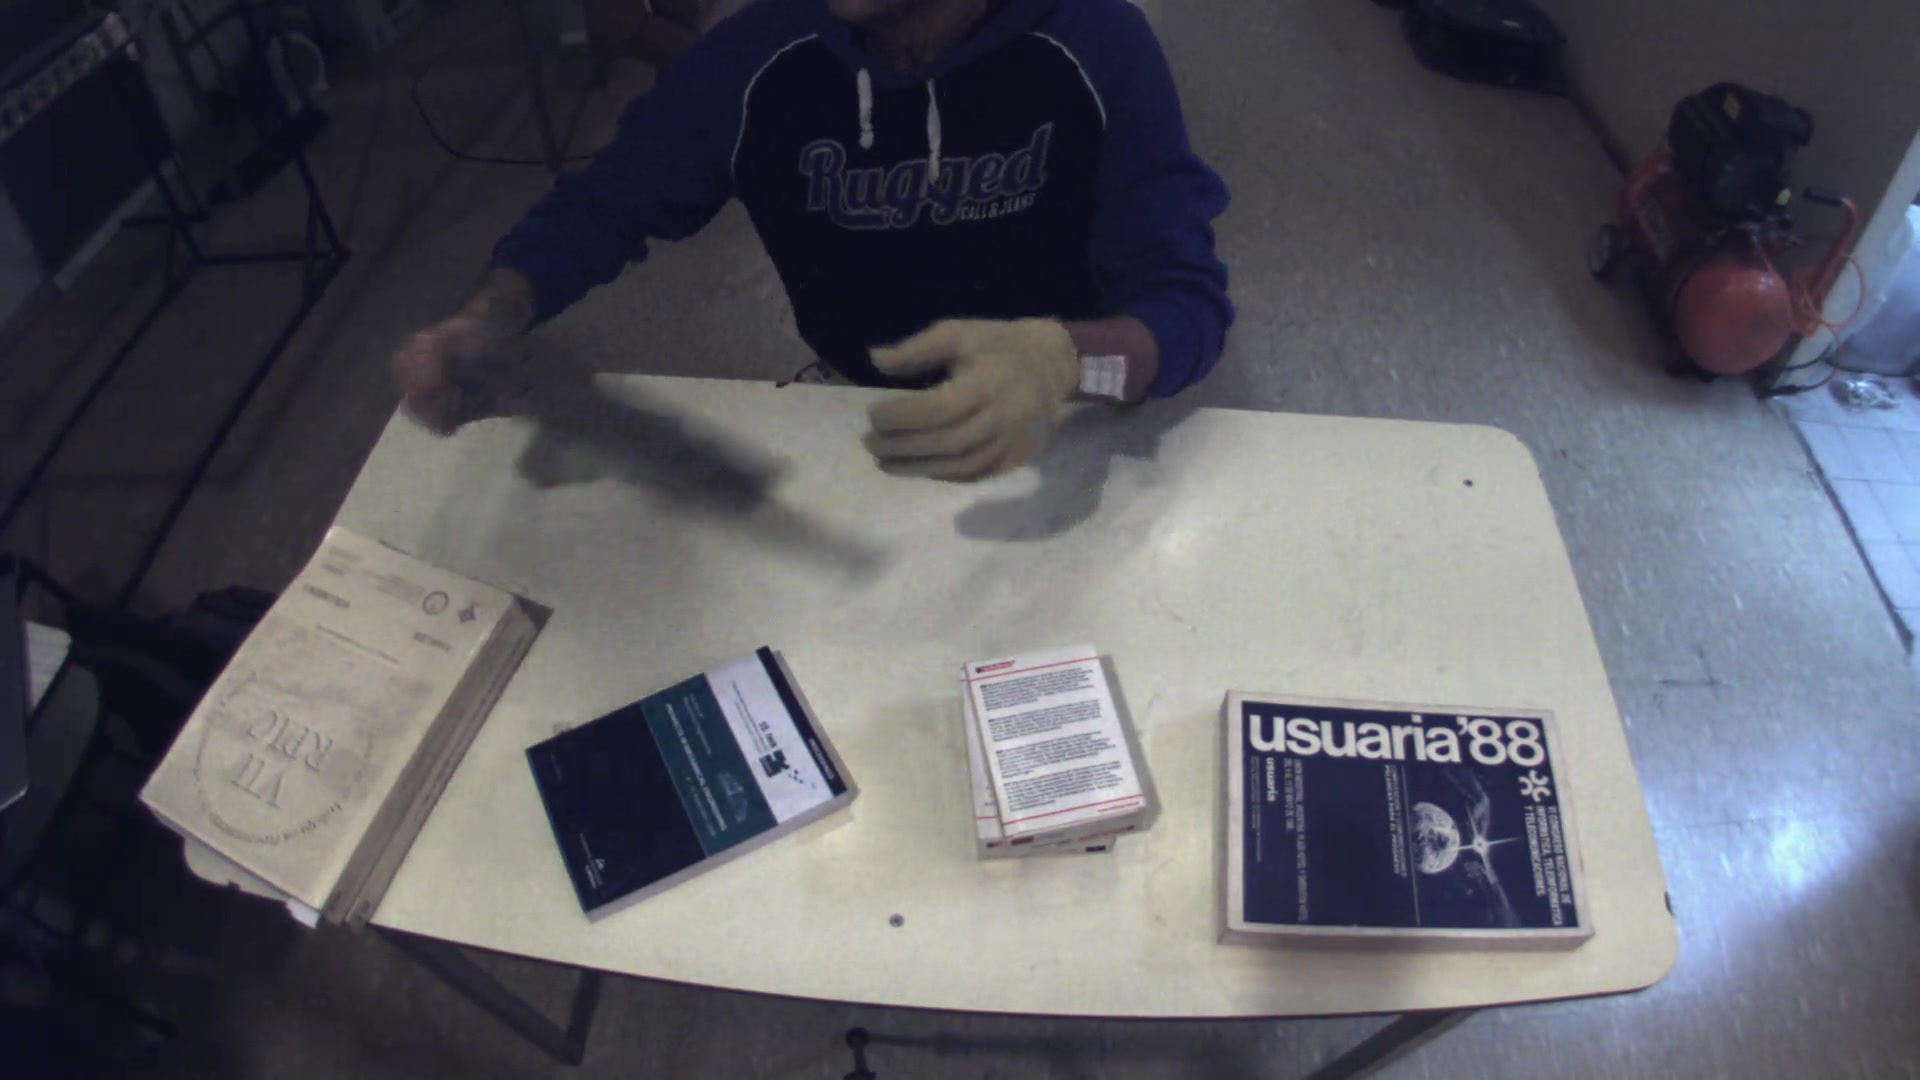hand: (851, 297, 1092, 487)
